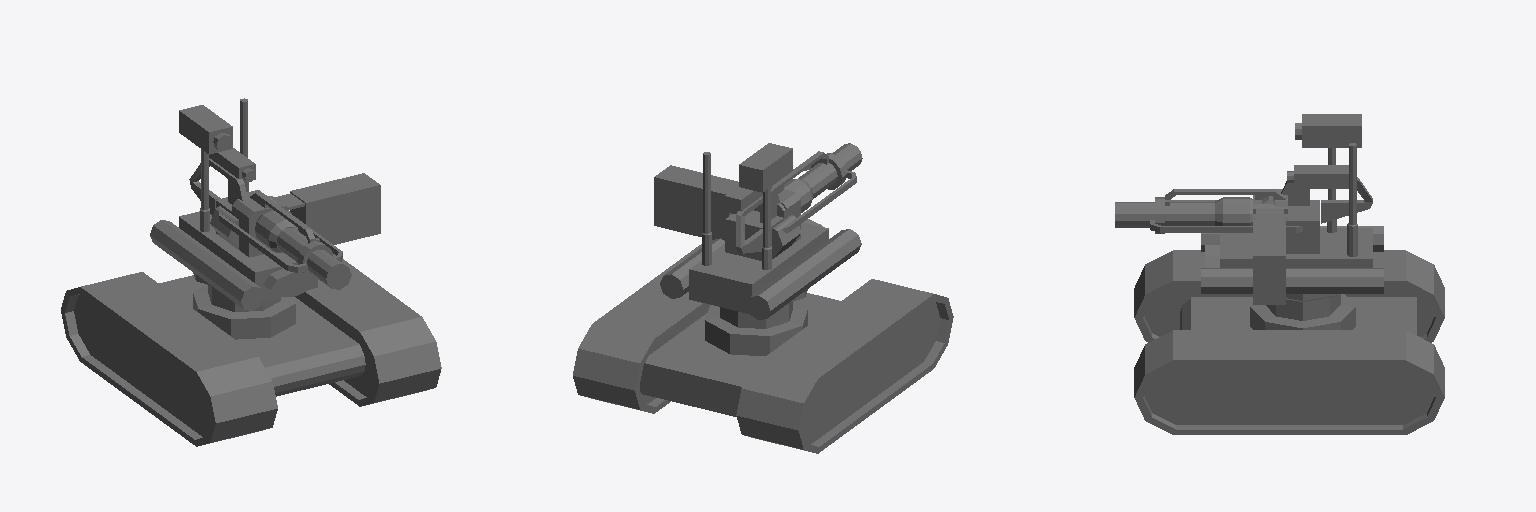
File: robot.obj
3 renders of one model, left to right at view 1: azimuth 30°, elevation 25°; view 2: azimuth 150°, elevation 25°; view 3: azimuth 270°, elevation 25°, orthographic.
Parts seen in each view (by area): view 1: Polygon_Po_2; view 2: Polygon_Po_2; view 3: Polygon_Po_2.
Boxes of the visible parts, x1=… form: Polygon_Po_2: x1=61, y1=98, x2=441, y2=446; Polygon_Po_2: x1=573, y1=143, x2=953, y2=453; Polygon_Po_2: x1=1115, y1=114, x2=1444, y2=434.
Size of the model in its own units: 185 by 194 by 233.